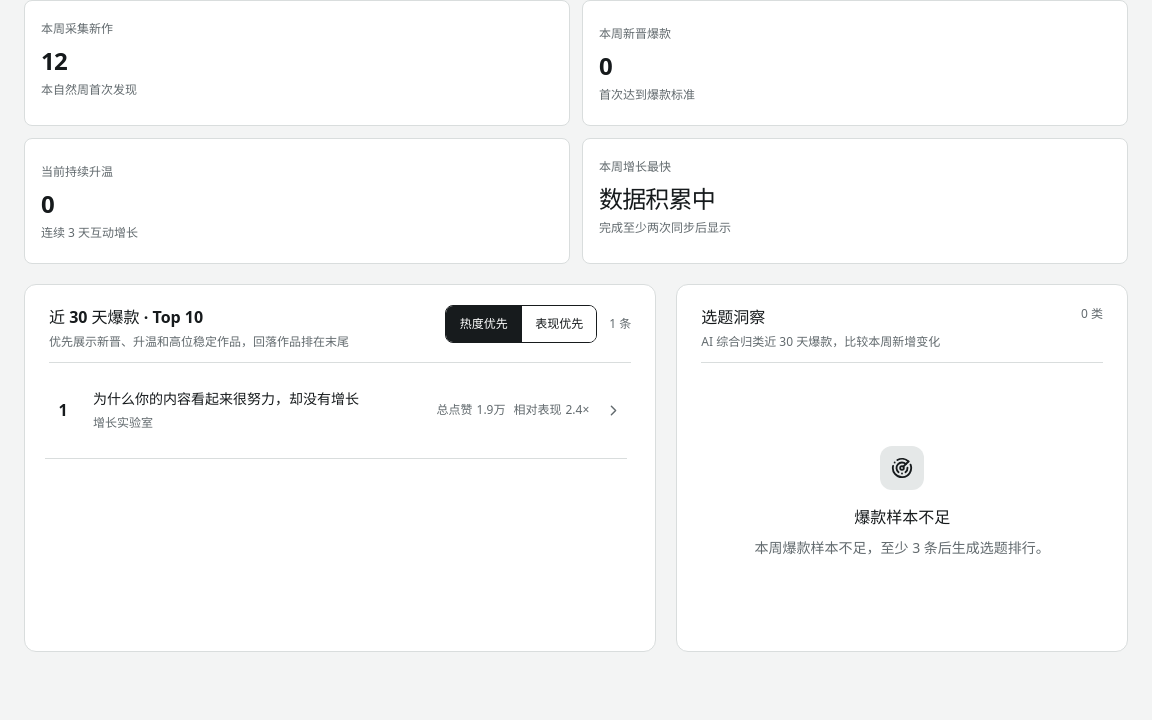
Test: overview workspace › opens and closes the highlight inspector
(page scrolled)
Click the button "1 为什么你的内容看起来很努力，却没有增长 增长实验室 总点赞 1.9万 相对表现 2.4×": (336, 411) [45, 363, 627, 459]
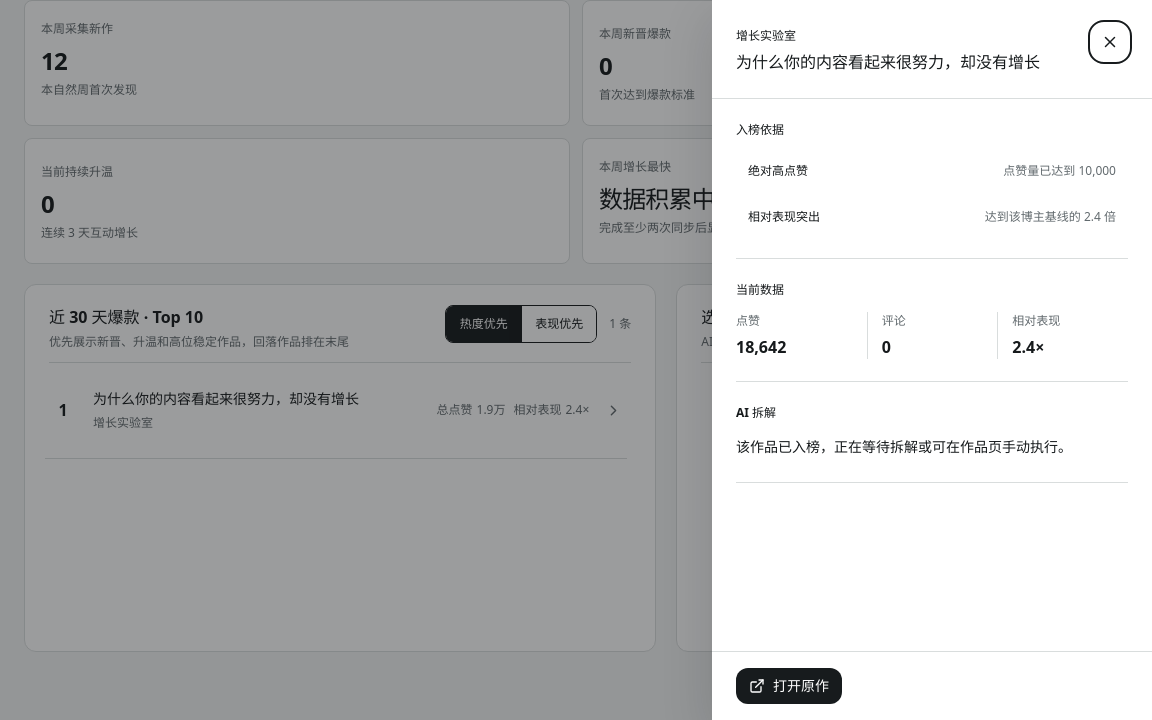
Result: the dialog named "爆款拆解" is shown at [712, 0, 1151, 719]
Click the button named "关闭详情": (1110, 42) [1092, 24, 1128, 60]
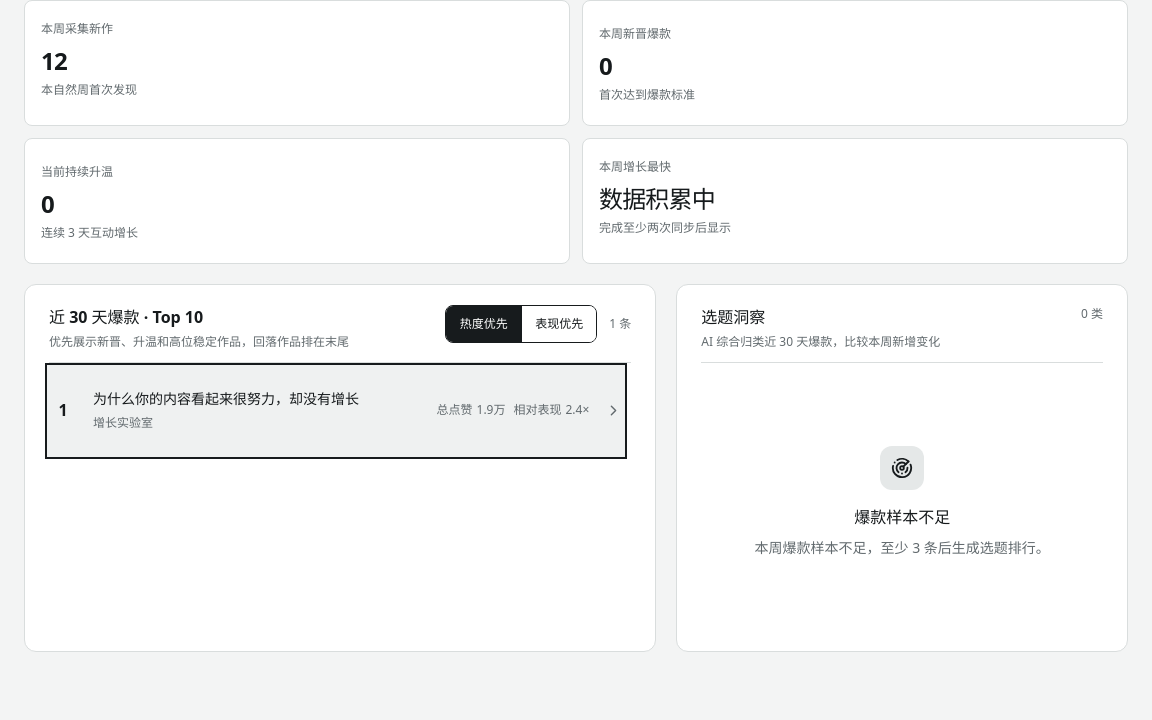
Result: the dialog is gone
